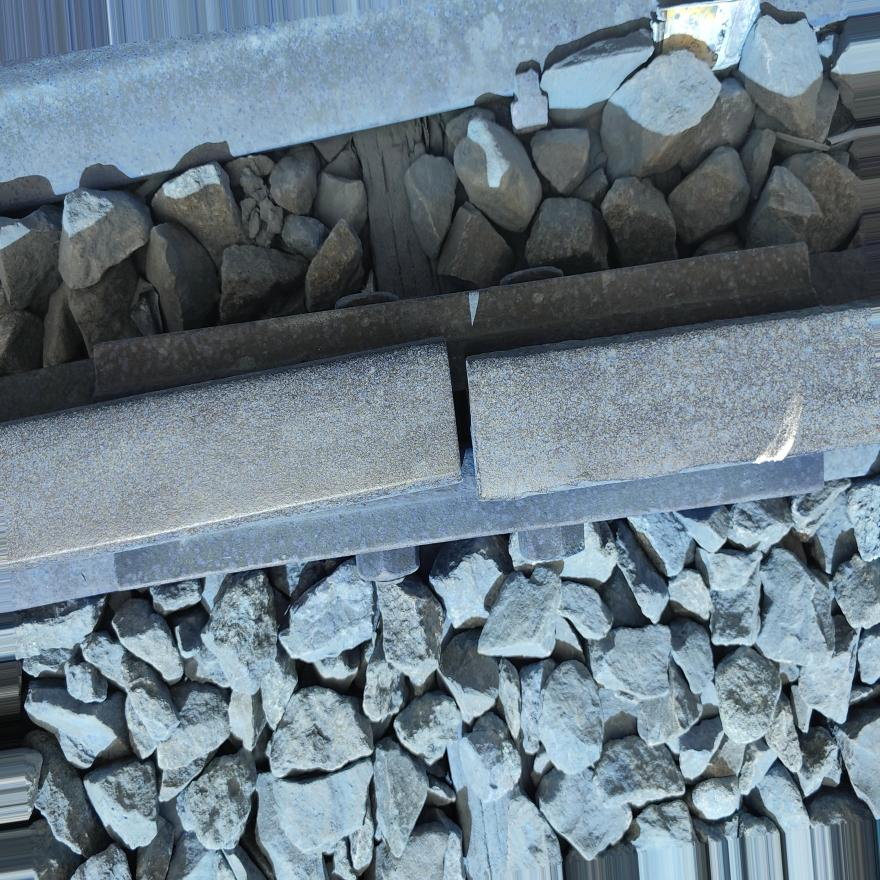railway-gap: (376, 316, 550, 527)
